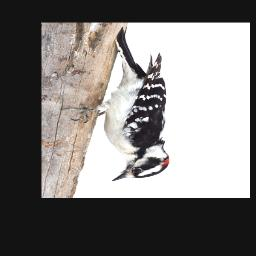Woodpecker: (61, 26, 173, 184)
